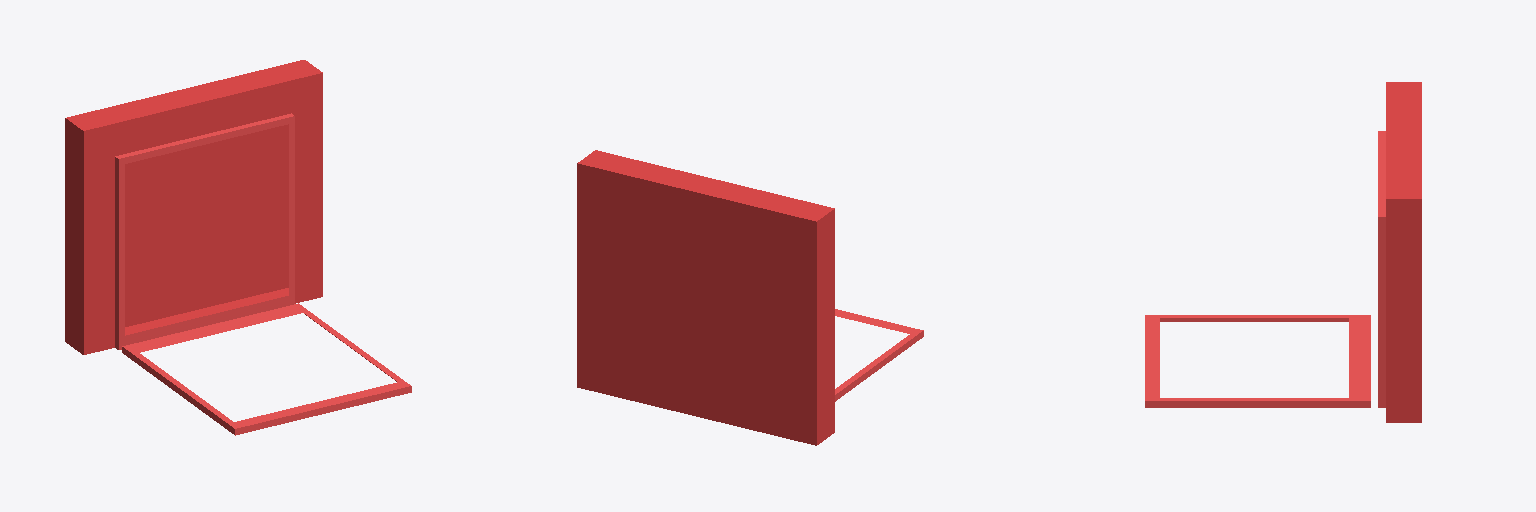
3 views of the same model, side by side, from view 1: azimuth 30°, elevation 25°; view 2: azimuth 150°, elevation 25°; view 3: azimuth 270°, elevation 25° (orthographic).
Visible parts, largest first — view 1: object 1; view 2: object 1; view 3: object 1.
Boxes of the visible parts, x1,y1,x2,y2 form: object 1: [65, 60, 411, 435]; object 1: [577, 150, 923, 445]; object 1: [1145, 82, 1421, 422].
Bounding box in the file's own units: 3.8 × 3.5 × 3.9.
Materials: 1 (1 with a texture image).